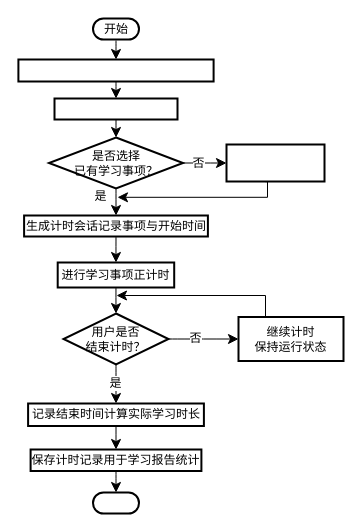
Some shapes in this 362 by 531 pixel diagram are drawn without their labels. Here are the shapes that lost their labels. From the top down, the box of each, then its label:
(17, 58, 214, 82): 用户签到成功 进入座位终端工作台
(53, 97, 178, 120): 读取用户学习事项列表
(225, 143, 325, 182): 输入临时事项名称 作为本次学习标签
(92, 491, 140, 514): 结束
